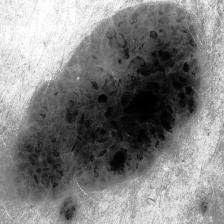Benign Marking or Mole: (13, 8, 199, 194)
